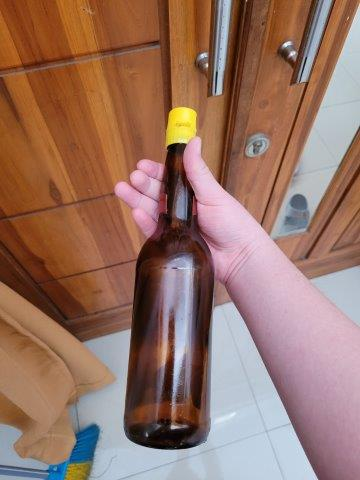botolkaca: (124, 107, 217, 449)
